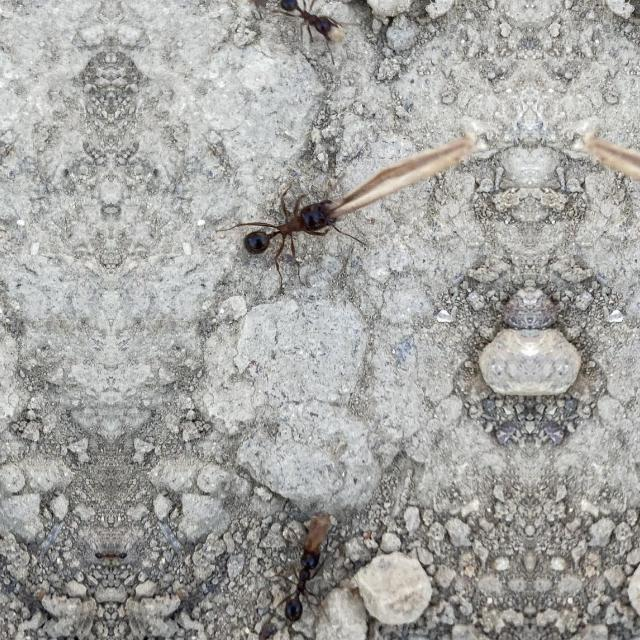Messor: (244, 175, 370, 273)
